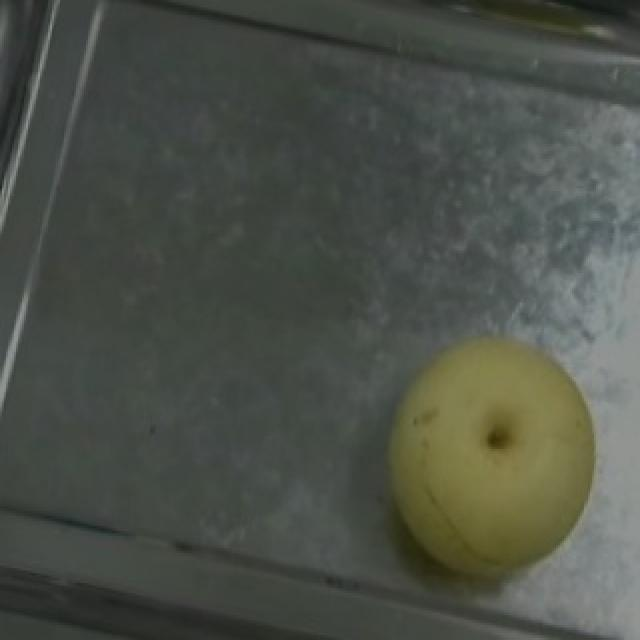Fruit: (352, 308, 620, 602)
